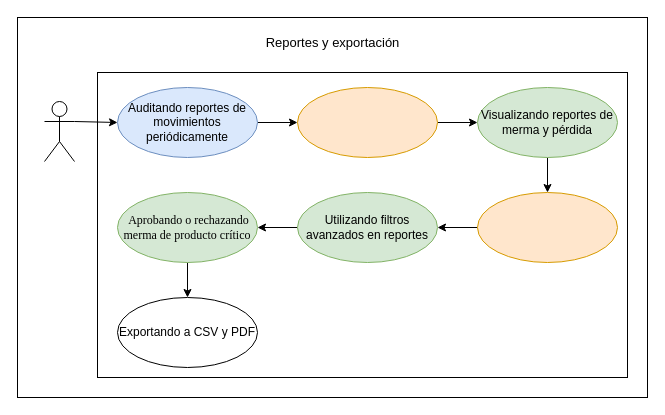
This 665x415 diagram has some shape labels left out. Each missing label, with the box of its shape:
Analizando el índice de rotación: (296, 86, 438, 158)
Gerencia: (44, 100, 74, 162)
Visualizando reportes históricos consolidados: (476, 192, 618, 262)
